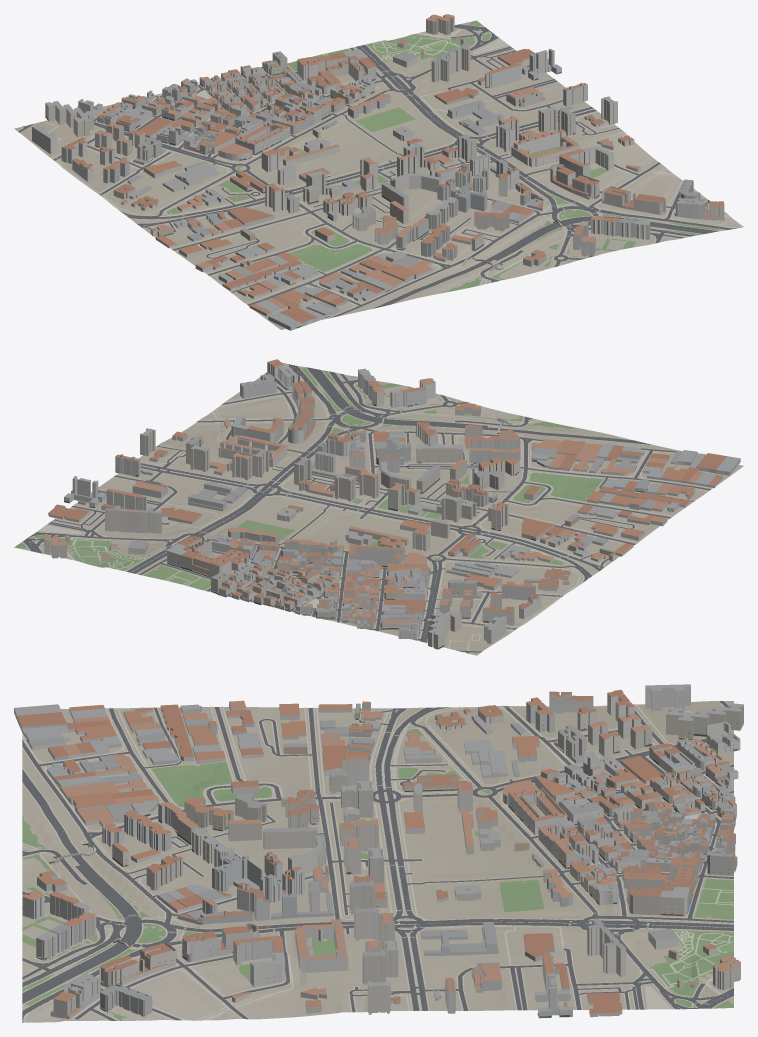
The picture shows the model from 3 angles, top to bottom: view 1: azimuth 30°, elevation 25°; view 2: azimuth 150°, elevation 25°; view 3: azimuth 270°, elevation 25°; orthographic projection. The views are drawn at different scales.
Visible parts, largest first — view 1: Walls, Ground, Roofs, Sidewalk, Road, Park, Detail; view 2: Walls, Ground, Roofs, Road, Sidewalk, Park, Detail; view 3: Ground, Walls, Roofs, Road, Sidewalk, Park, Detail, Marks.
Part boxes in pixels (box(x1,y1,x2,y2)): Walls: box(32, 16, 724, 330); Ground: box(14, 21, 741, 329); Roofs: box(32, 14, 724, 326); Sidewalk: box(17, 24, 742, 320); Road: box(18, 24, 743, 318); Park: box(166, 20, 719, 293); Detail: box(45, 67, 706, 327); Walls: box(44, 362, 740, 649); Ground: box(19, 365, 743, 655); Roofs: box(44, 359, 740, 634); Road: box(22, 363, 710, 653); Sidewalk: box(22, 363, 712, 653); Park: box(14, 368, 603, 590); Detail: box(64, 375, 647, 648); Ground: box(22, 701, 733, 1022); Walls: box(14, 687, 743, 1019); Roofs: box(14, 684, 743, 1015); Road: box(22, 701, 733, 1022); Sidewalk: box(22, 701, 733, 1022); Park: box(22, 728, 733, 1020); Detail: box(15, 709, 741, 1017); Marks: box(33, 706, 734, 1009).
Size of the model in its own units: 1032 by 65.94 by 1026.
